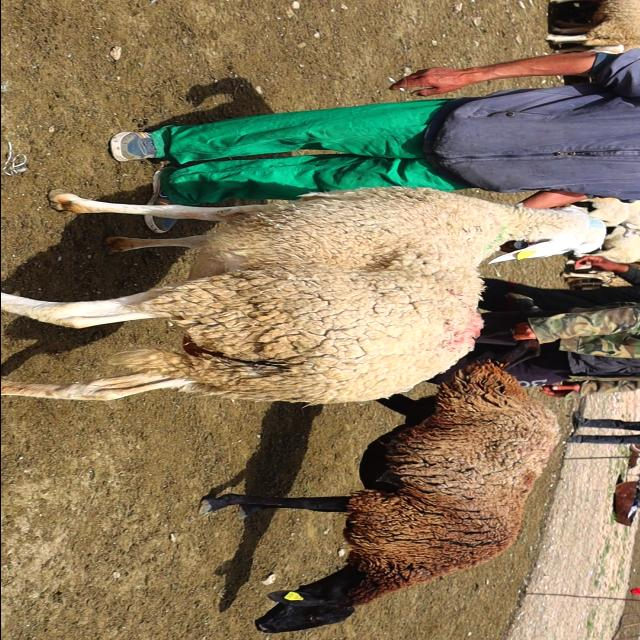Score_3: (1, 186, 605, 405)
